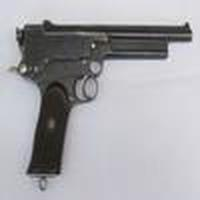gun: (16, 21, 188, 182)
